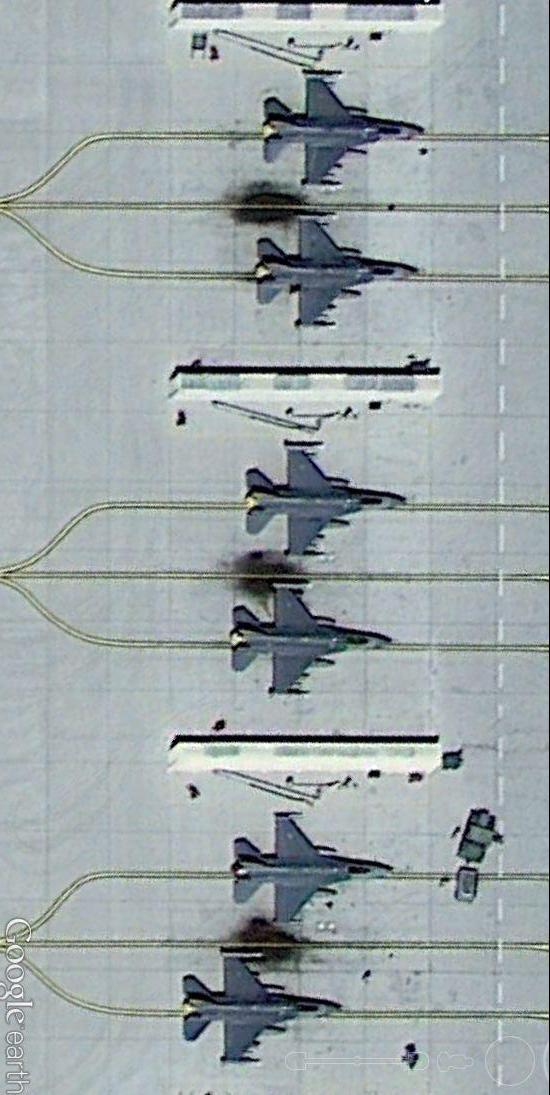F-16: (258, 68, 436, 188), (245, 443, 408, 565), (230, 809, 394, 928), (259, 214, 421, 334), (230, 584, 396, 700), (181, 950, 341, 1067)
